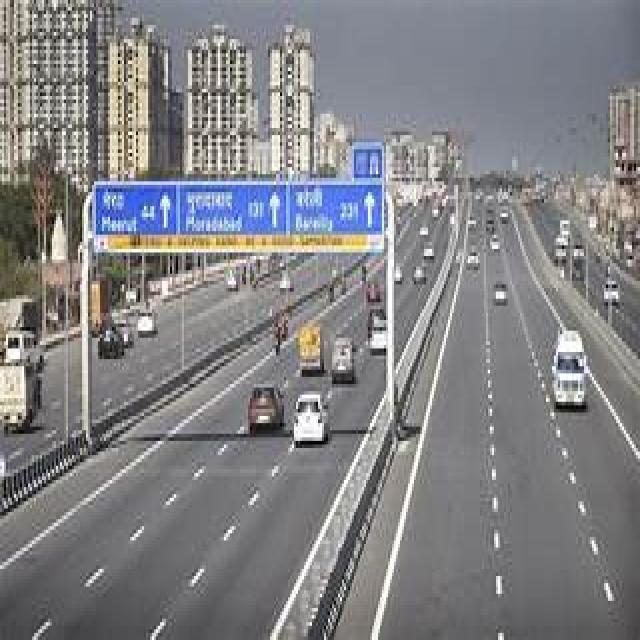Car: (294, 393, 329, 443), (248, 387, 283, 432)
Traveller: (551, 333, 585, 406)
